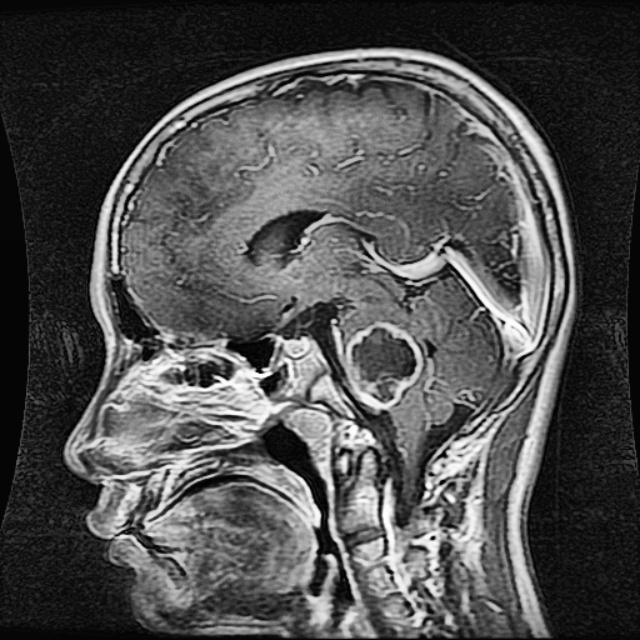Meningioma: (348, 320, 423, 409)
